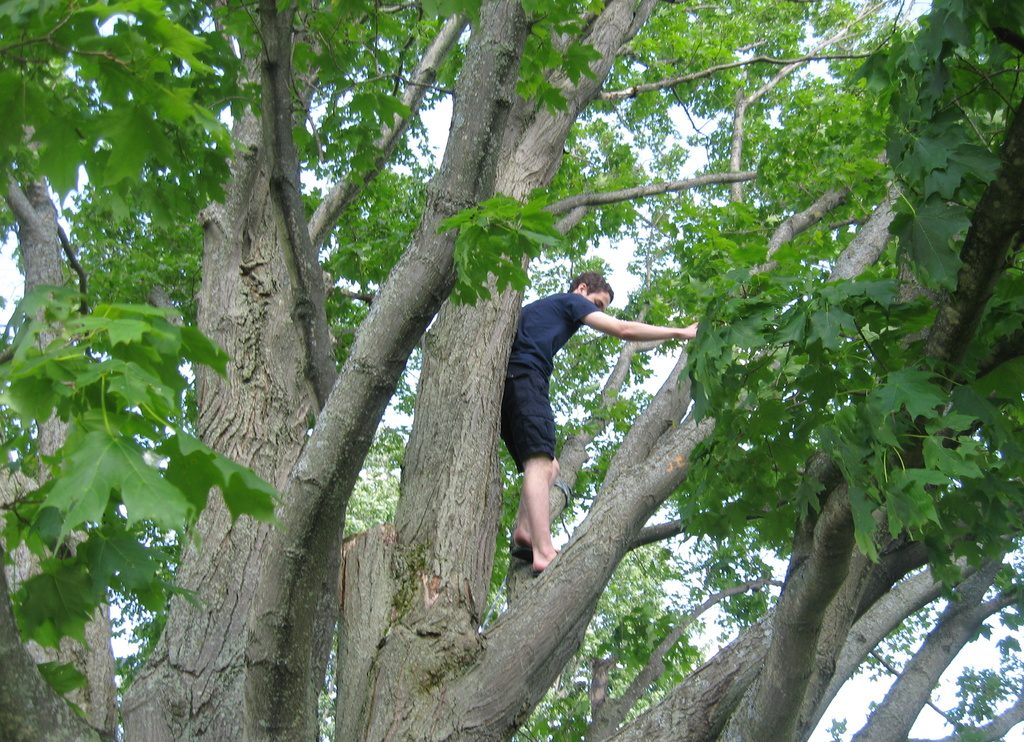person: (503, 269, 700, 571)
